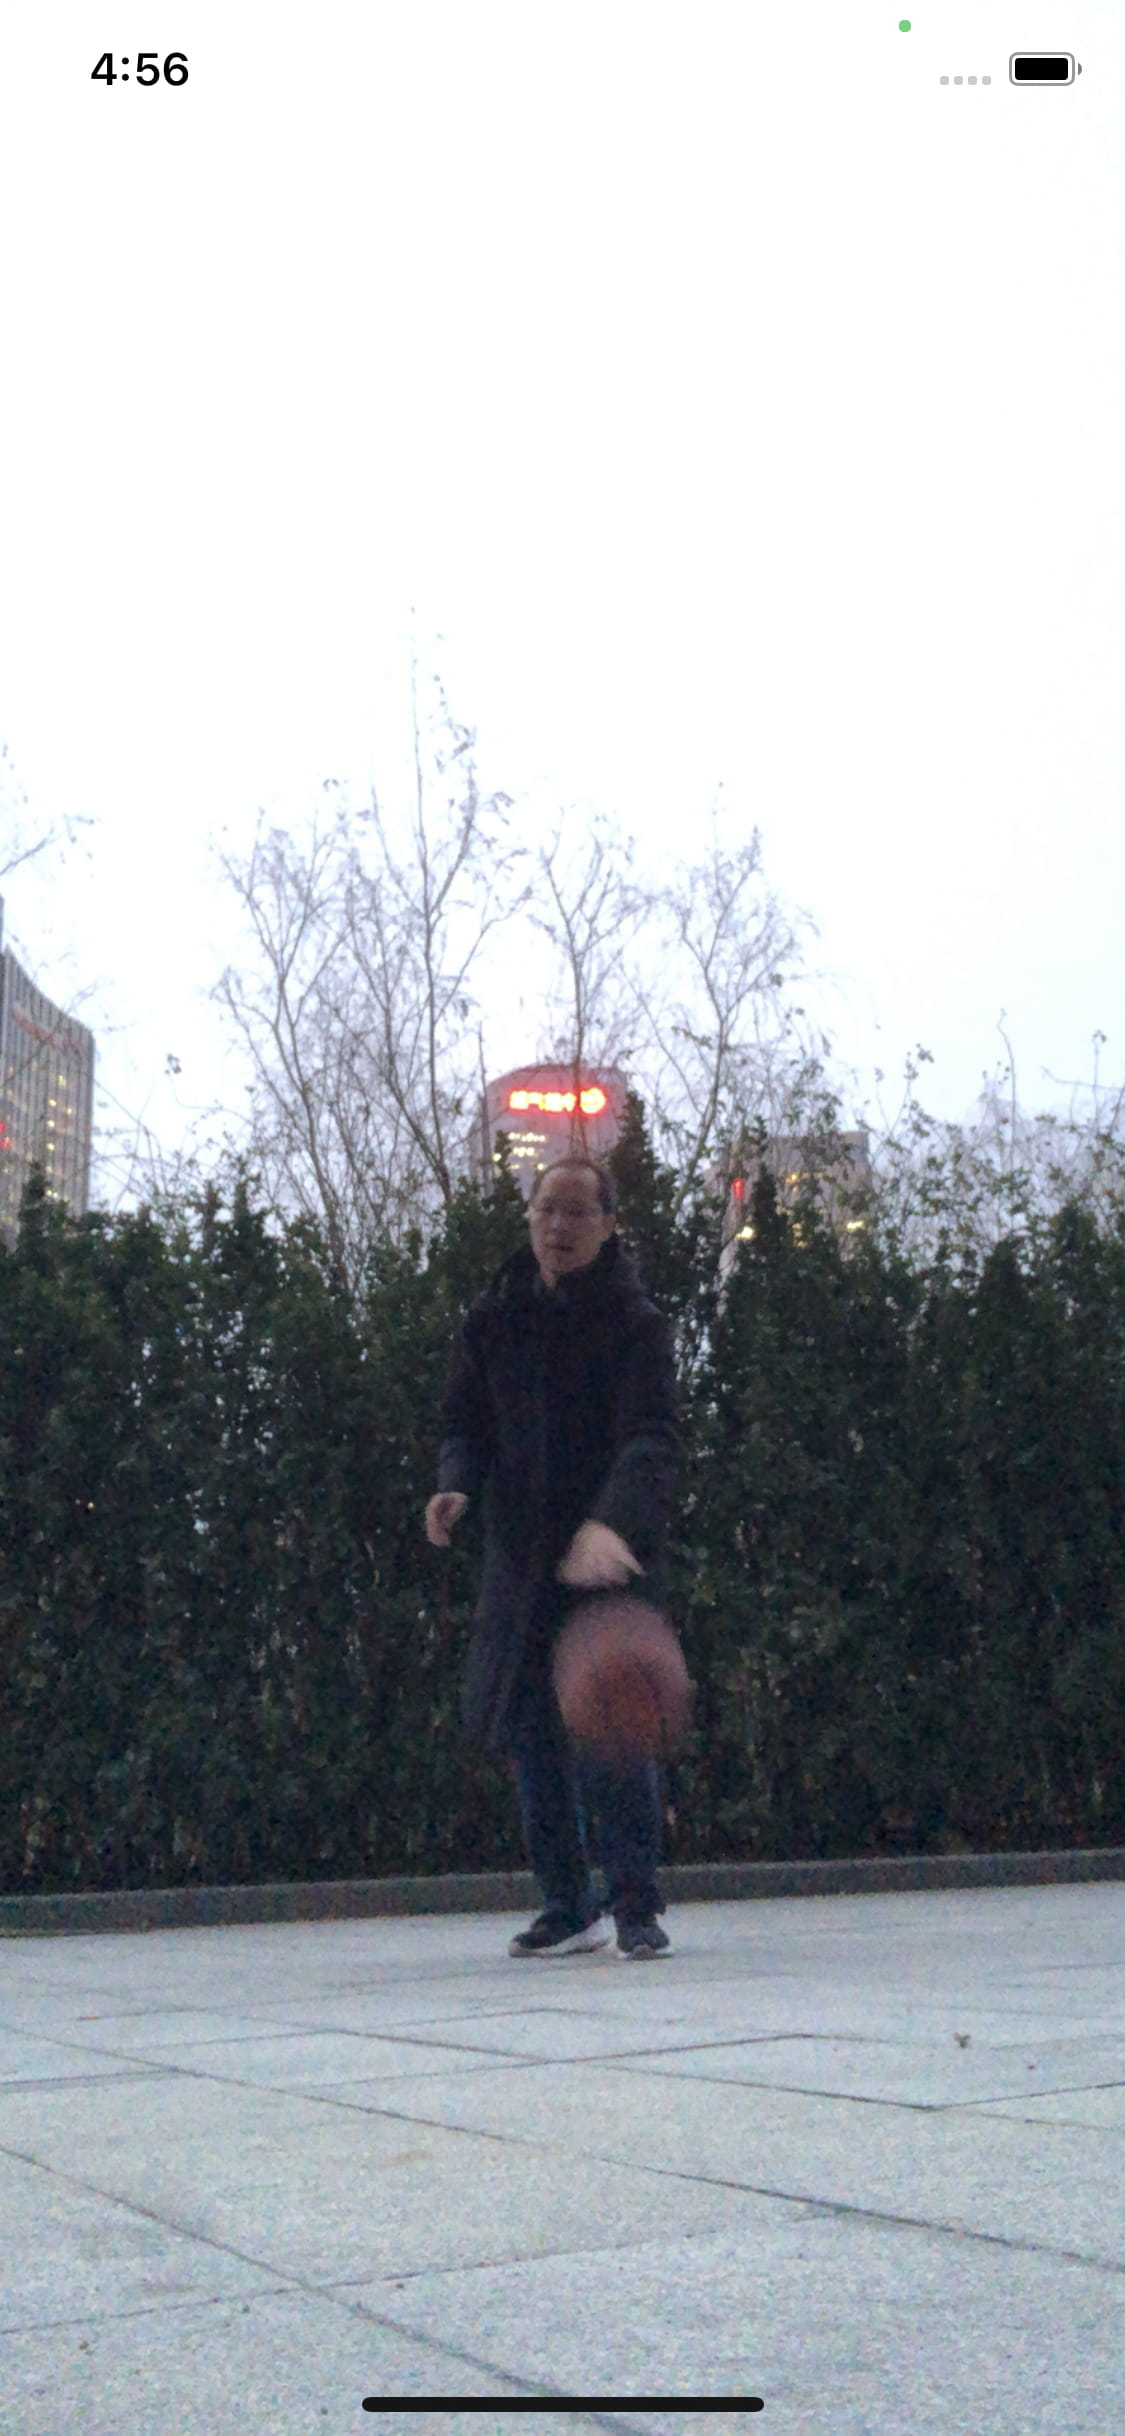ball: (549, 1596, 693, 1742)
